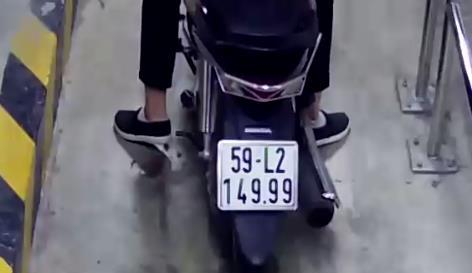lisence: (215, 140, 299, 212)
